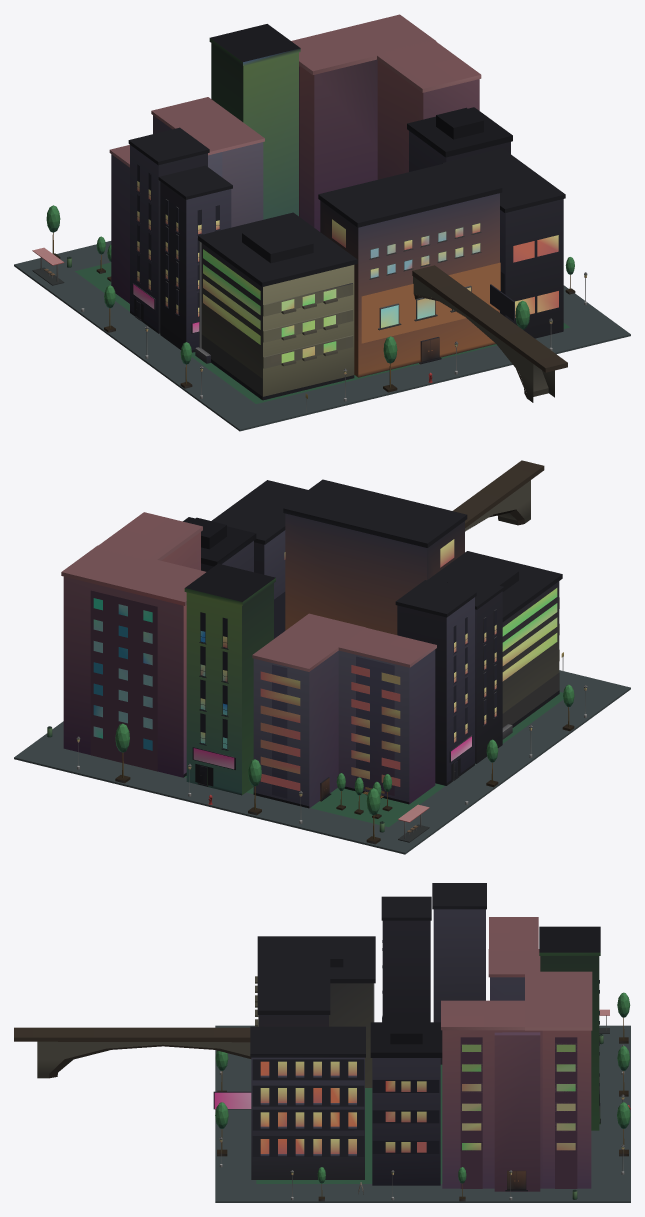
Rendered from building-block-mid.fbx.
3 renders of one model, top to bottom at view 1: azimuth 30°, elevation 25°; view 2: azimuth 150°, elevation 25°; view 3: azimuth 270°, elevation 25°, orthographic. The views are drawn at different scales.
Visible parts, largest first — view 1: building-block-mid; view 2: building-block-mid; view 3: building-block-mid.
Part boxes in pixels (x1,y1,x2,y2): building-block-mid: (14, 14, 630, 431); building-block-mid: (14, 460, 630, 854); building-block-mid: (14, 883, 630, 1202).
Size of the model in its own units: 41.07 by 20.02 by 60.67.
